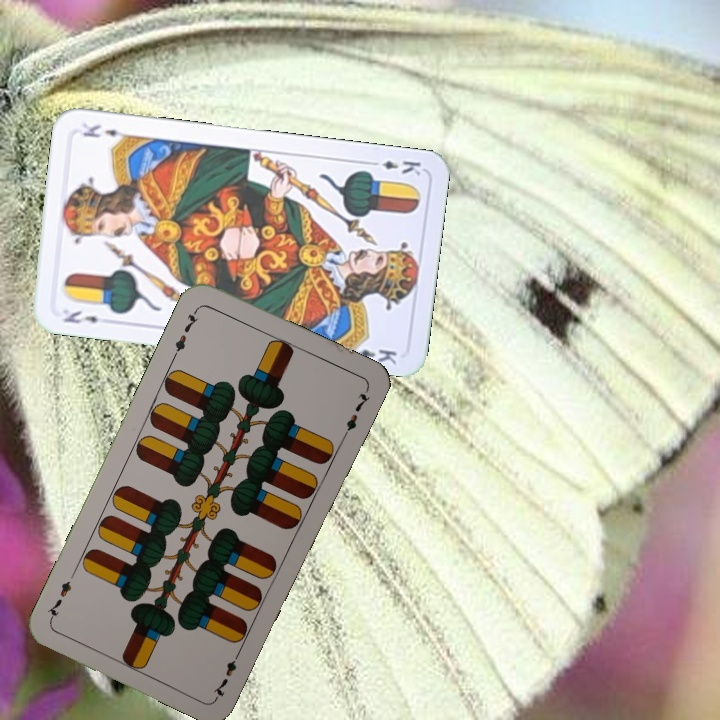E7: (209, 645, 244, 700), (169, 304, 201, 360)
EK: (365, 156, 424, 178), (59, 306, 101, 326)
